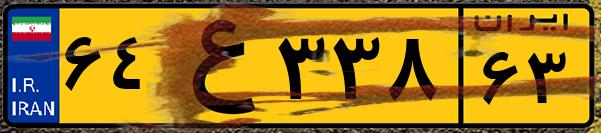3: (270, 28, 330, 110), (330, 28, 385, 110), (525, 38, 570, 115)
4: (110, 28, 158, 98)
6: (57, 26, 110, 100), (475, 38, 525, 113)
8: (385, 28, 445, 110)
ع: (158, 12, 270, 120)
